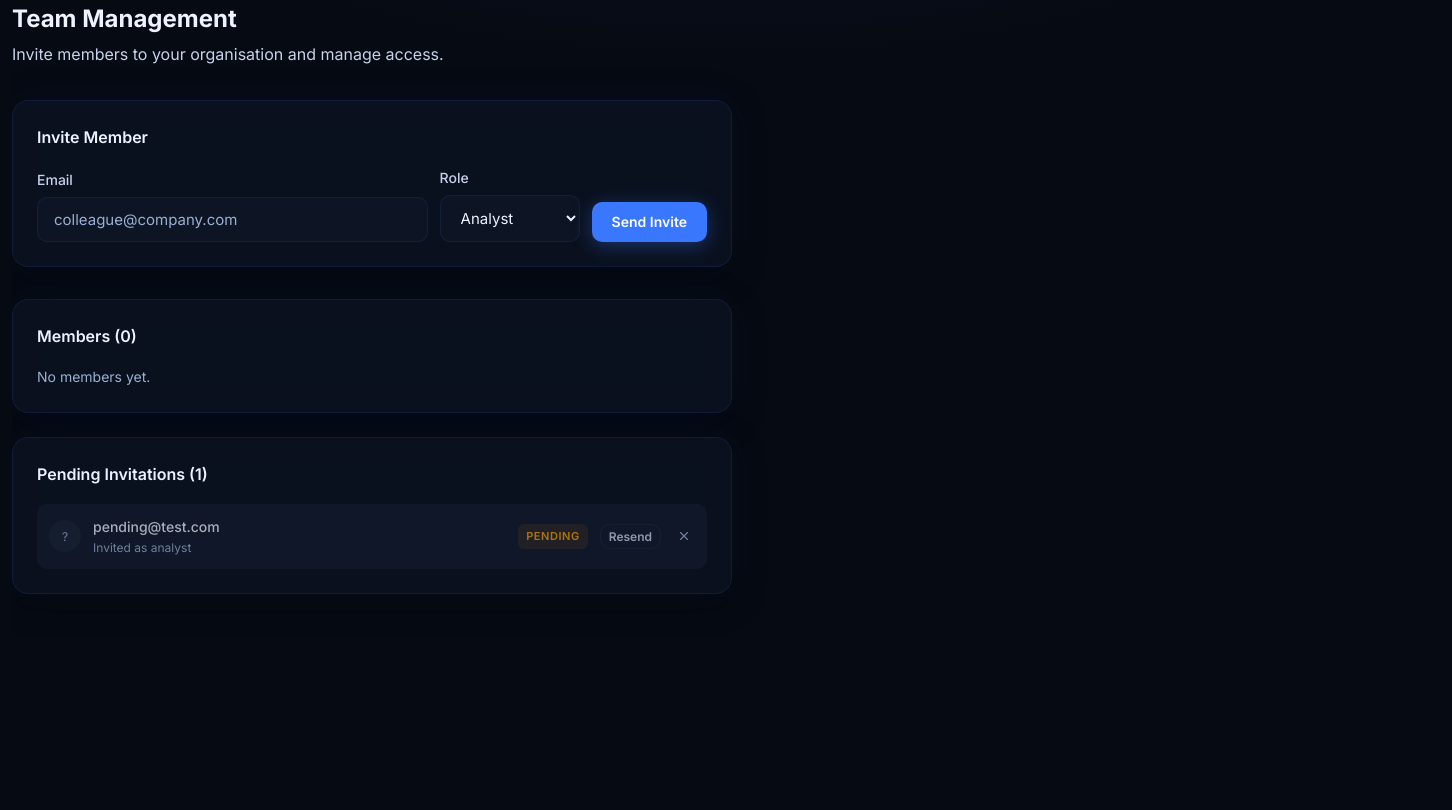
Scenario: TeamView › revoke invitation (toast.undo) › optimistically removes the row immediately and shows Undo toast
Click the button named "Revoke invitation for pending@test.com" at (684, 536), box [673, 525, 695, 547]
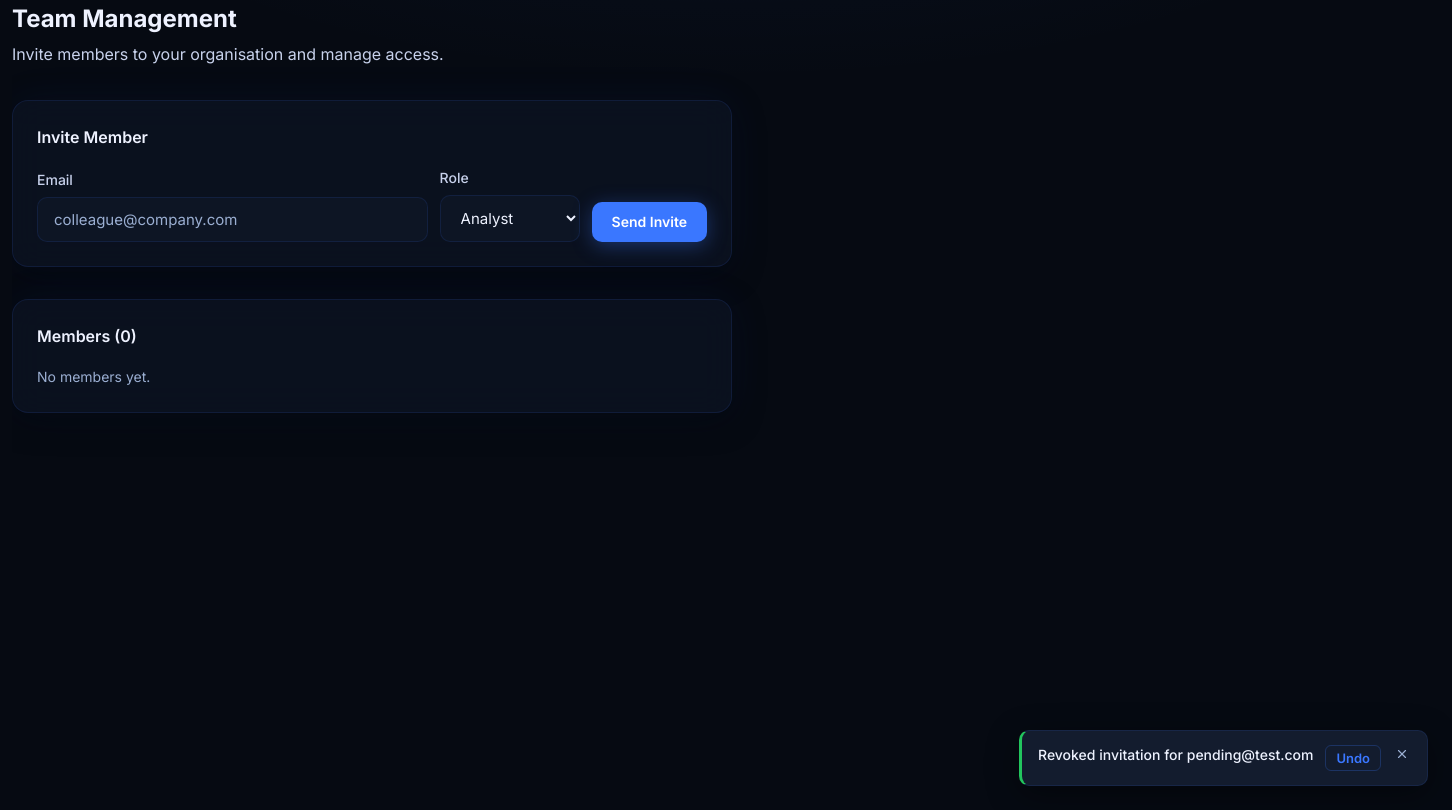
Now the text "Revoked invitation for pending@test.com" is shown, box [1038, 745, 1313, 765]
Now the button "Undo" is shown, box [1325, 745, 1381, 771]
